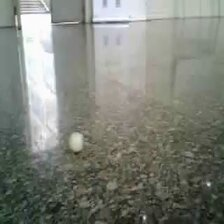w: (67, 131, 87, 155)
